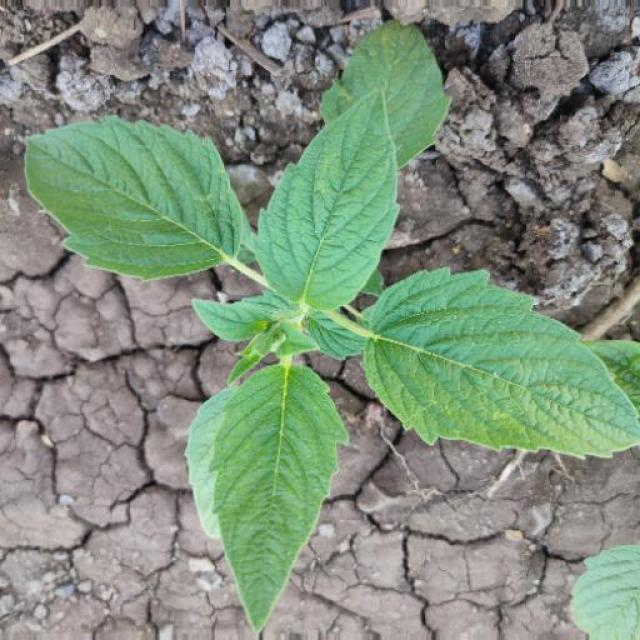crop: (18, 17, 638, 625)
